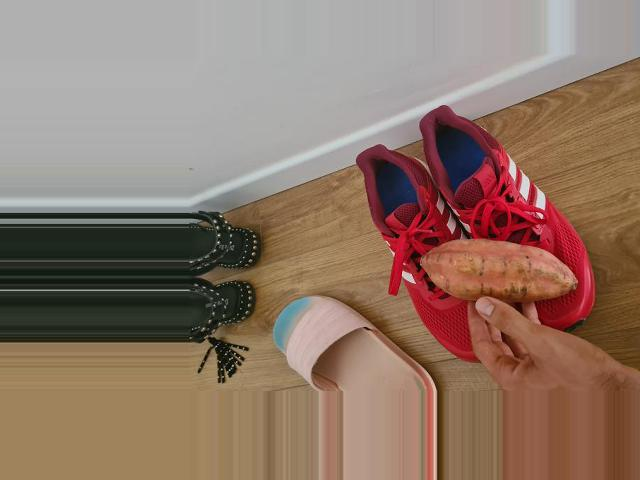sweet_potato: (420, 237, 577, 302)
